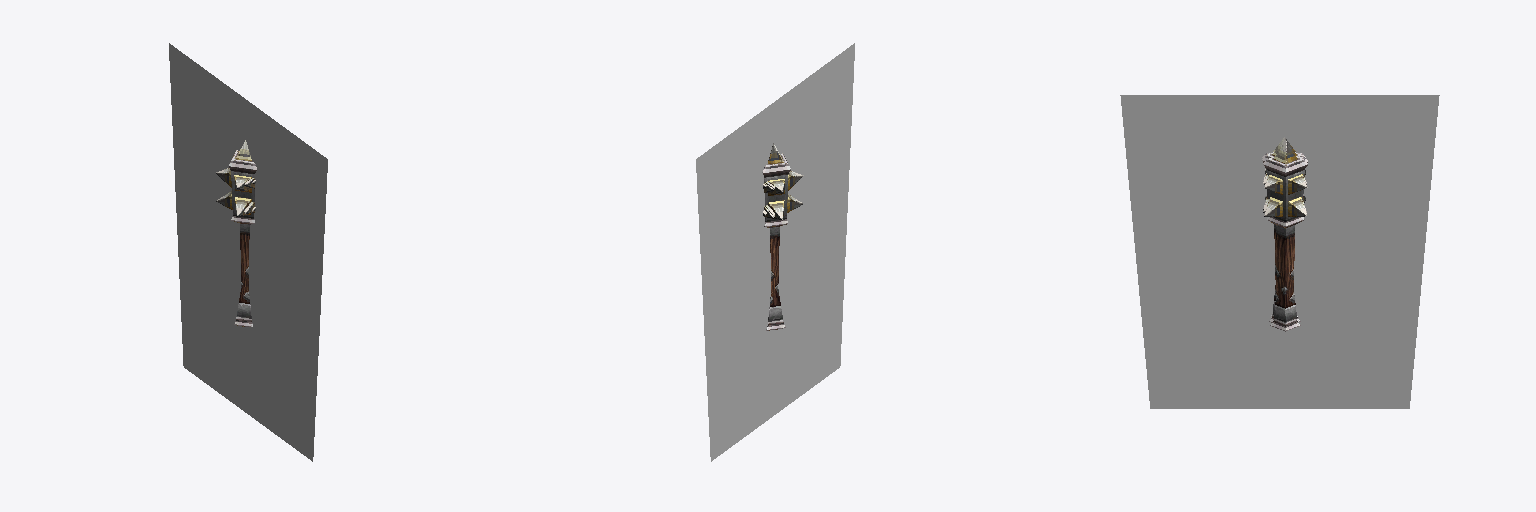
The picture shows the model from 3 angles: view 1: azimuth 30°, elevation 25°; view 2: azimuth 150°, elevation 25°; view 3: azimuth 270°, elevation 25°; orthographic projection.
Parts seen in each view (by area): view 1: battlestance_impact_head; view 2: battlestance_impact_head; view 3: battlestance_impact_head.
Boxes of the visible parts, <box> form: battlestance_impact_head: <box>169,43,327,461</box>; battlestance_impact_head: <box>696,43,854,461</box>; battlestance_impact_head: <box>1120,95,1439,408</box>.
Size of the model in its own units: 0.2338 by 1.27 by 1.17.
Materials: 3 (2 with a texture image).